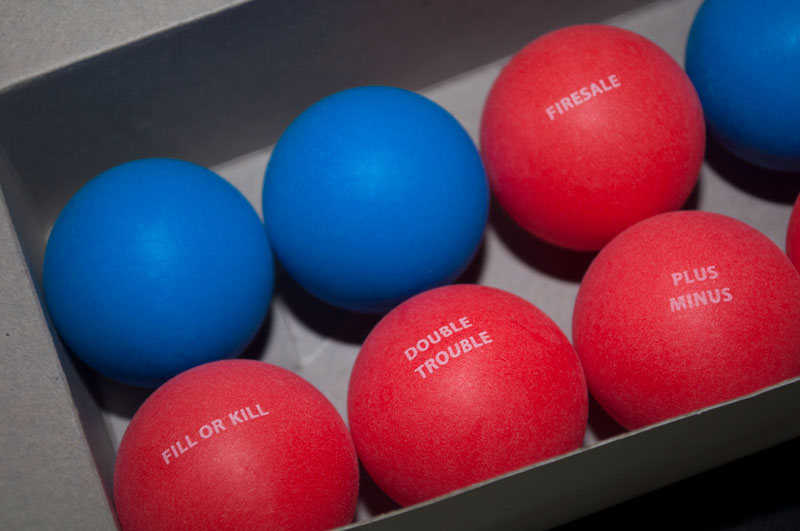blue ball: (260, 85, 494, 316), (40, 157, 277, 385), (686, 2, 800, 179)
red ball: (345, 281, 592, 509), (477, 23, 709, 252), (570, 209, 800, 436), (108, 358, 361, 531)
